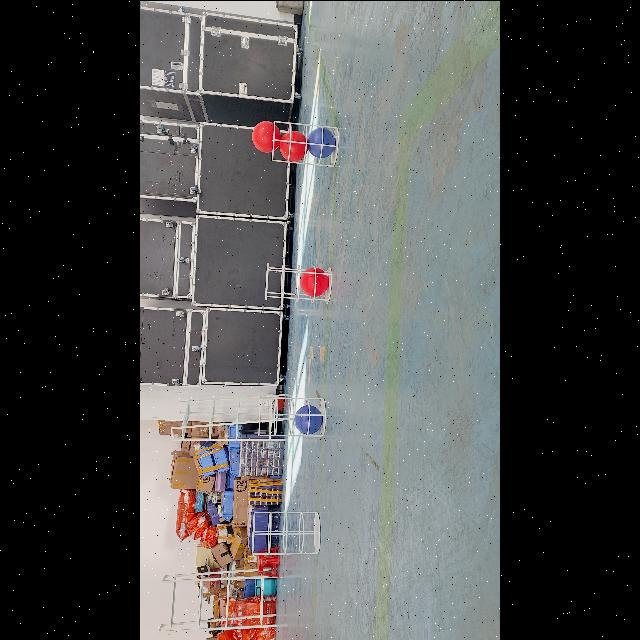B: (306, 126, 336, 158), (294, 404, 322, 436)
R: (252, 120, 282, 152), (301, 267, 329, 299), (280, 130, 306, 160)
S: (248, 505, 324, 557), (268, 116, 340, 170), (256, 392, 328, 442), (263, 258, 333, 306)
